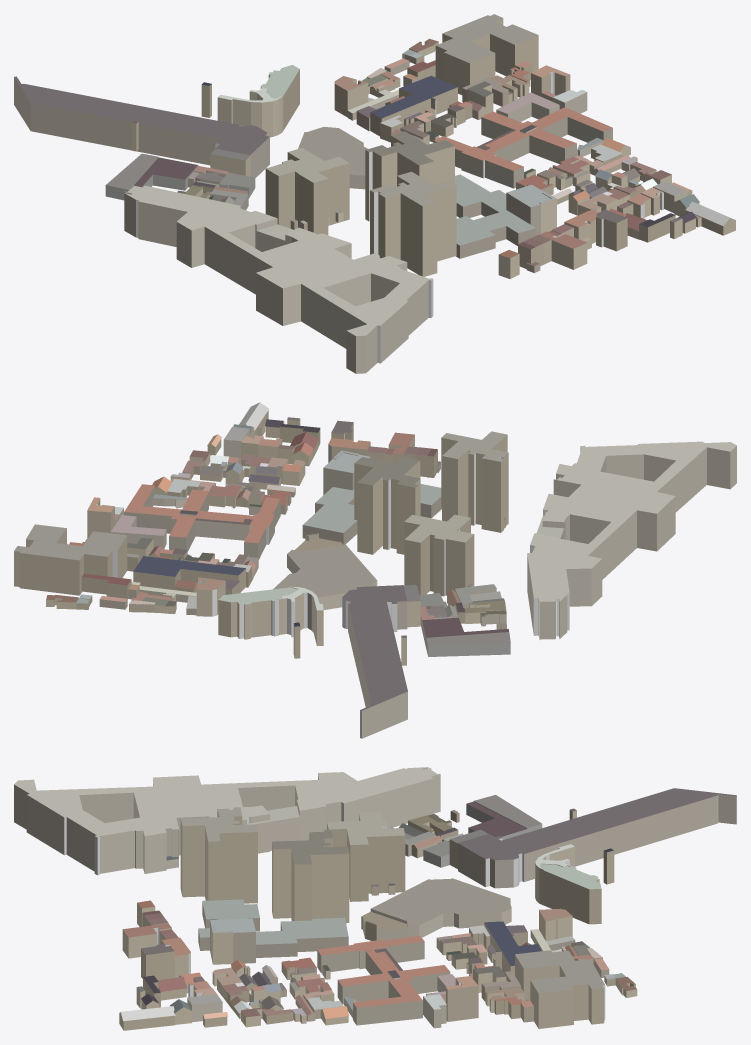
3 views of the same model, one above another, from view 1: azimuth 30°, elevation 25°; view 2: azimuth 150°, elevation 25°; view 3: azimuth 270°, elevation 25° (orthographic).
Parts seen in each view (by area): view 1: tuile; view 2: tuile; view 3: tuile.
Part boxes in pixels (<box>): tuile: <box>14,14,735,373</box>; tuile: <box>14,402,736,738</box>; tuile: <box>14,767,736,1030</box>.
Bounding box in the file's own units: 276 × 43.83 × 368.
